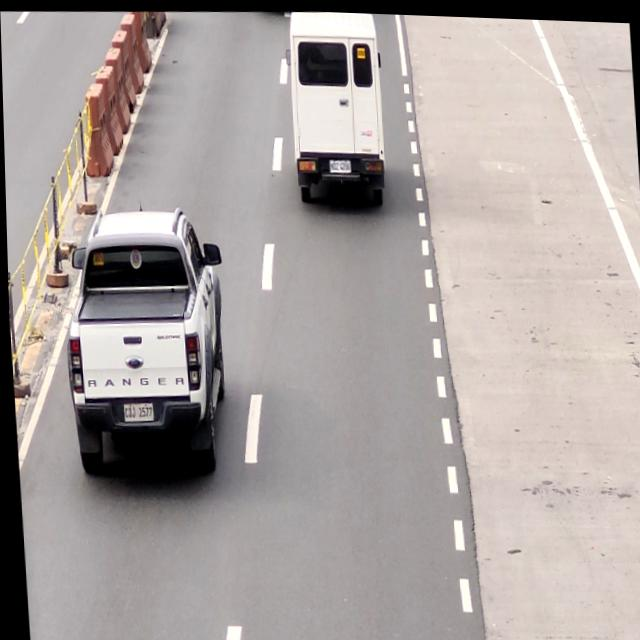Car: (59, 206, 228, 474), (288, 8, 388, 207)
License-Plate: (118, 398, 155, 425), (328, 155, 350, 172)
